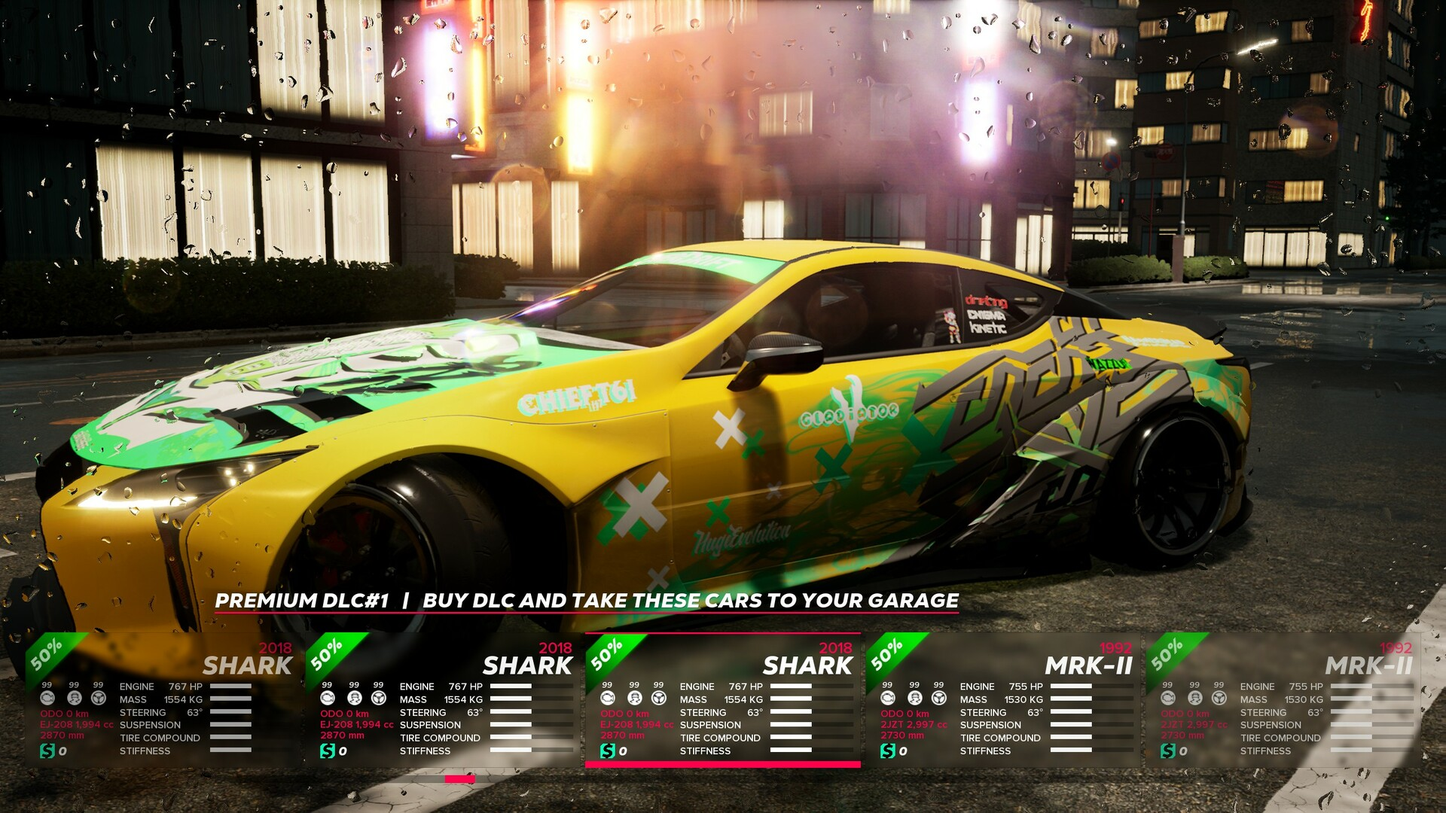other: (35, 239, 1292, 677)
